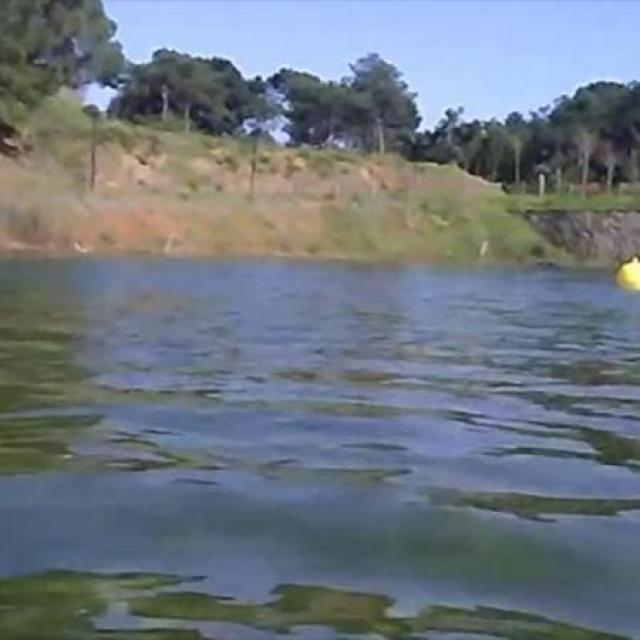buoy: (613, 255, 640, 287)
